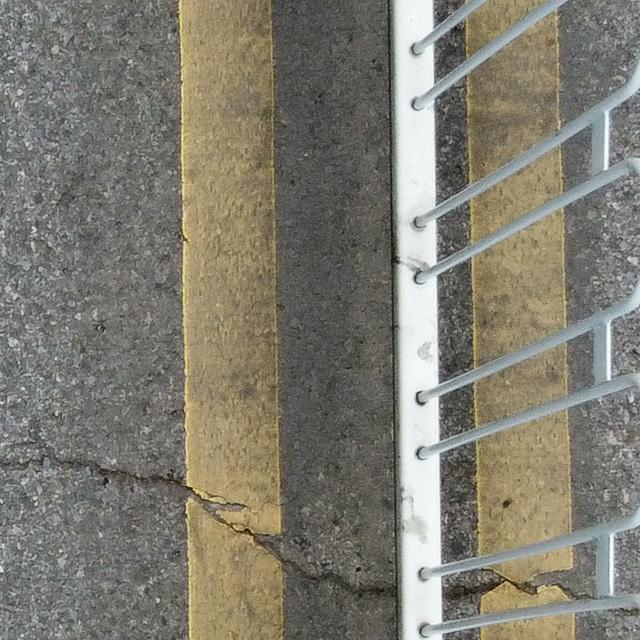TransverseCrack: (2, 454, 640, 617)
